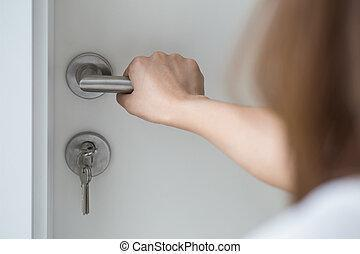doorhandle: (70, 58, 210, 120)
